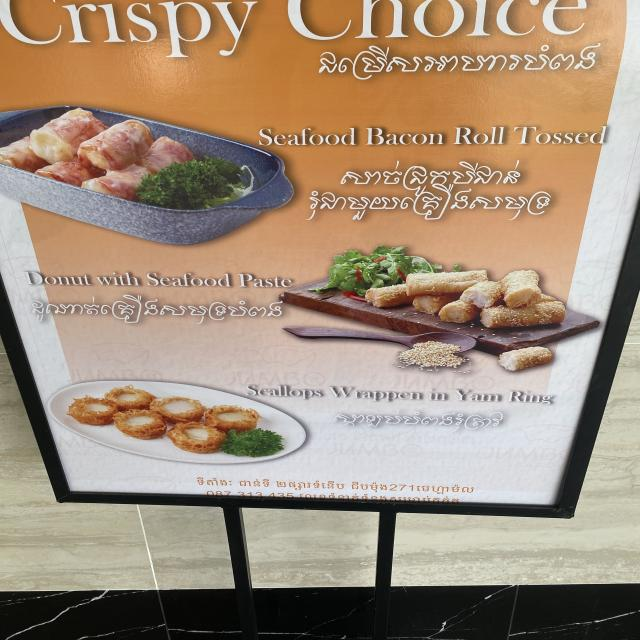10: (192, 474, 390, 493)
688: (388, 480, 415, 493)
Yolov11kh: (306, 39, 607, 82), (301, 181, 567, 223), (22, 292, 296, 327), (327, 156, 532, 198), (327, 405, 508, 435), (414, 480, 477, 496)
